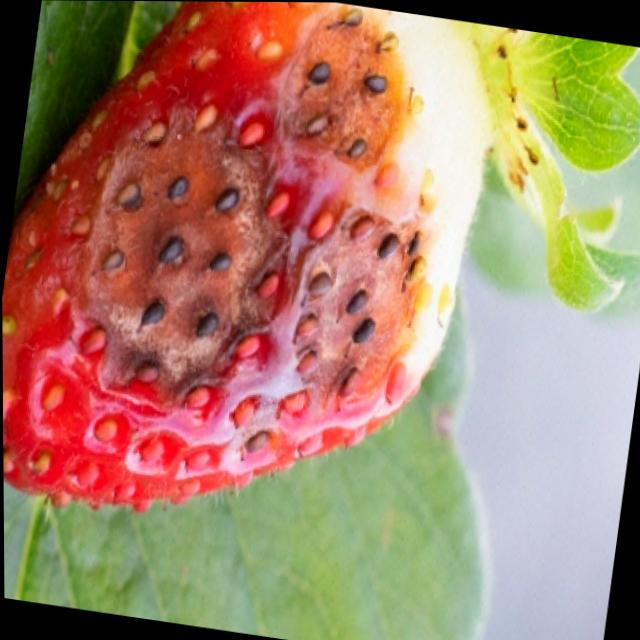Anthracnose Fruit Rot: (55, 2, 438, 467)
